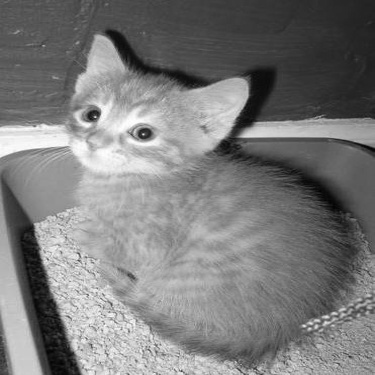cat: (65, 30, 355, 359)
